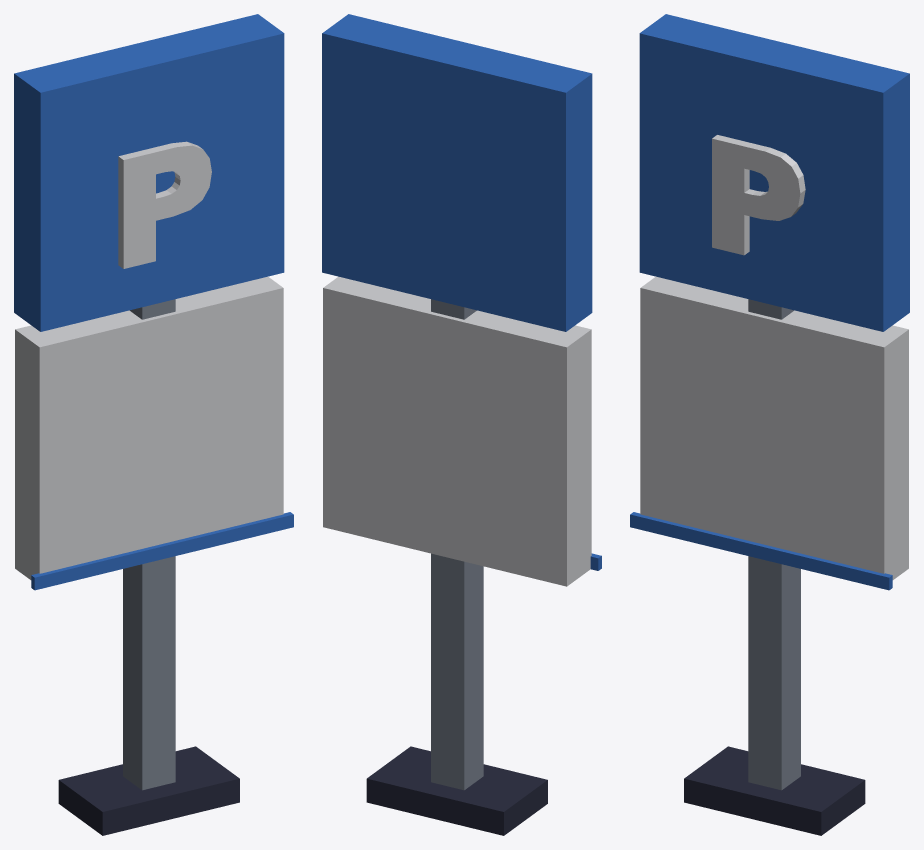
File: sign_p.glb
The picture shows the model from 3 angles, left to right: view 1: azimuth 30°, elevation 25°; view 2: azimuth 150°, elevation 25°; view 3: azimuth 330°, elevation 25°; orthographic projection.
Visible parts, largest first — view 1: sign_p; view 2: sign_p; view 3: sign_p.
Boxes of the visible parts, x1,y1,x2,y2 form: sign_p: [14, 14, 293, 835]; sign_p: [322, 14, 601, 835]; sign_p: [630, 14, 909, 835].
Size of the model in its own units: 1.7 by 4.7 by 0.5.
